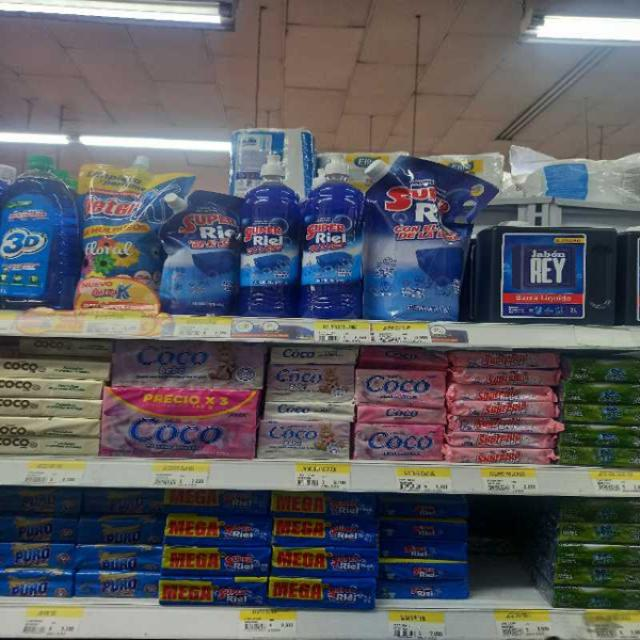Jabon_rey: (477, 218, 624, 331)
Super_Riel: (237, 156, 304, 318), (304, 162, 365, 322)
